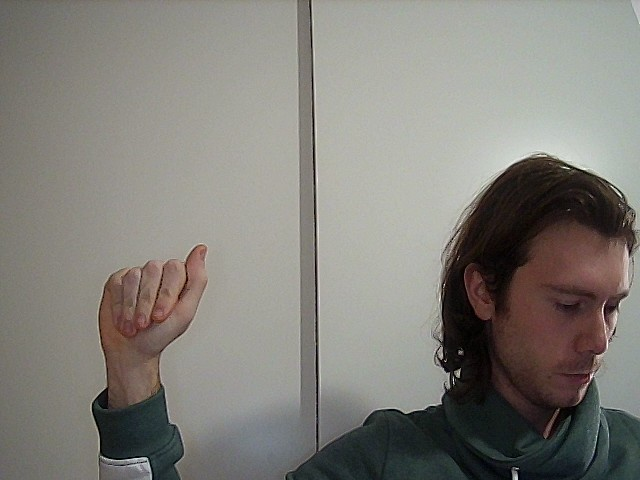a: (84, 237, 224, 355)
